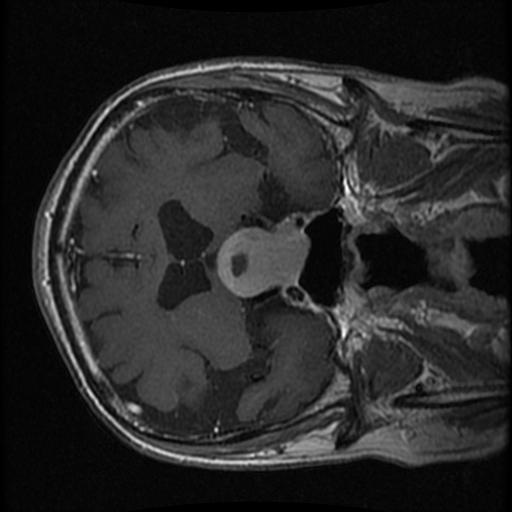pituitary tumour: (215, 212, 309, 299)
